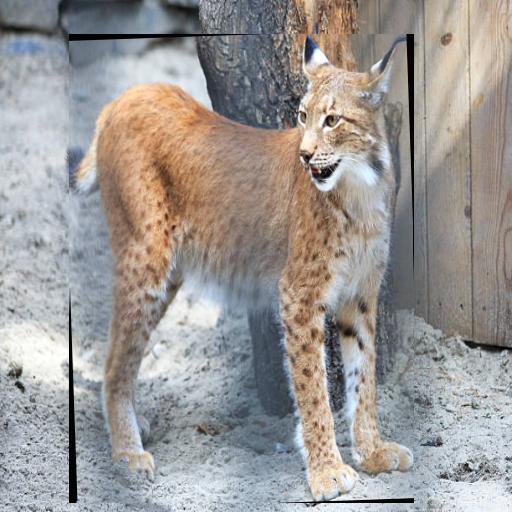lynx: (70, 34, 413, 501)
